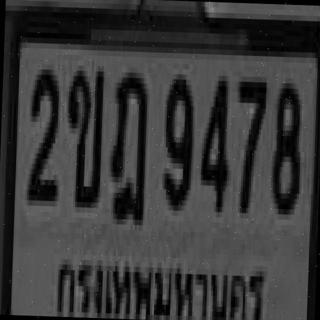A02: (63, 65, 102, 202)
A14: (106, 66, 146, 220)
N02: (25, 64, 60, 201)
N04: (198, 70, 228, 207)
N07: (232, 76, 265, 208)
N08: (268, 77, 301, 209)
N09: (161, 68, 192, 206)
P04: (49, 248, 271, 320)
